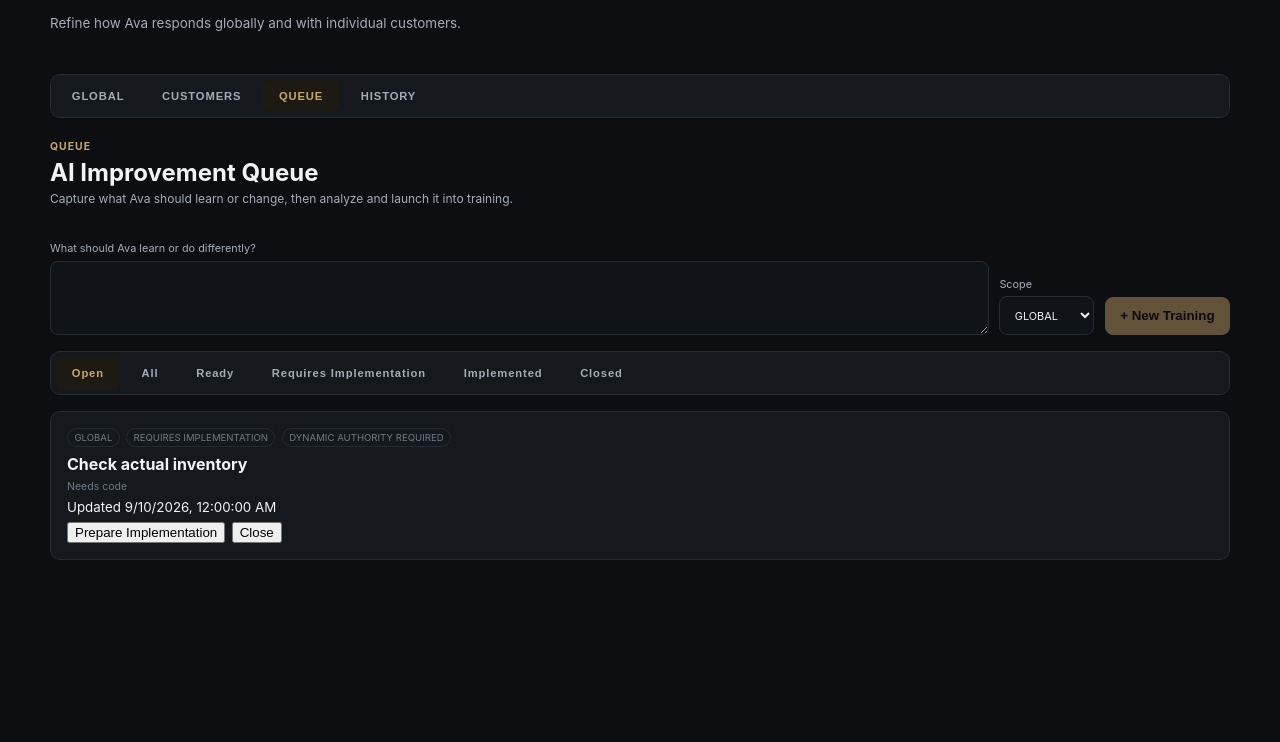
Test: AI Training workspace › requires explicit prepare, approval, and verification for code-backed work
This screenshot has width=1280, height=742.
Click the button "Prepare Implementation": (146, 532) [67,522,225,543]
(page scrolled)
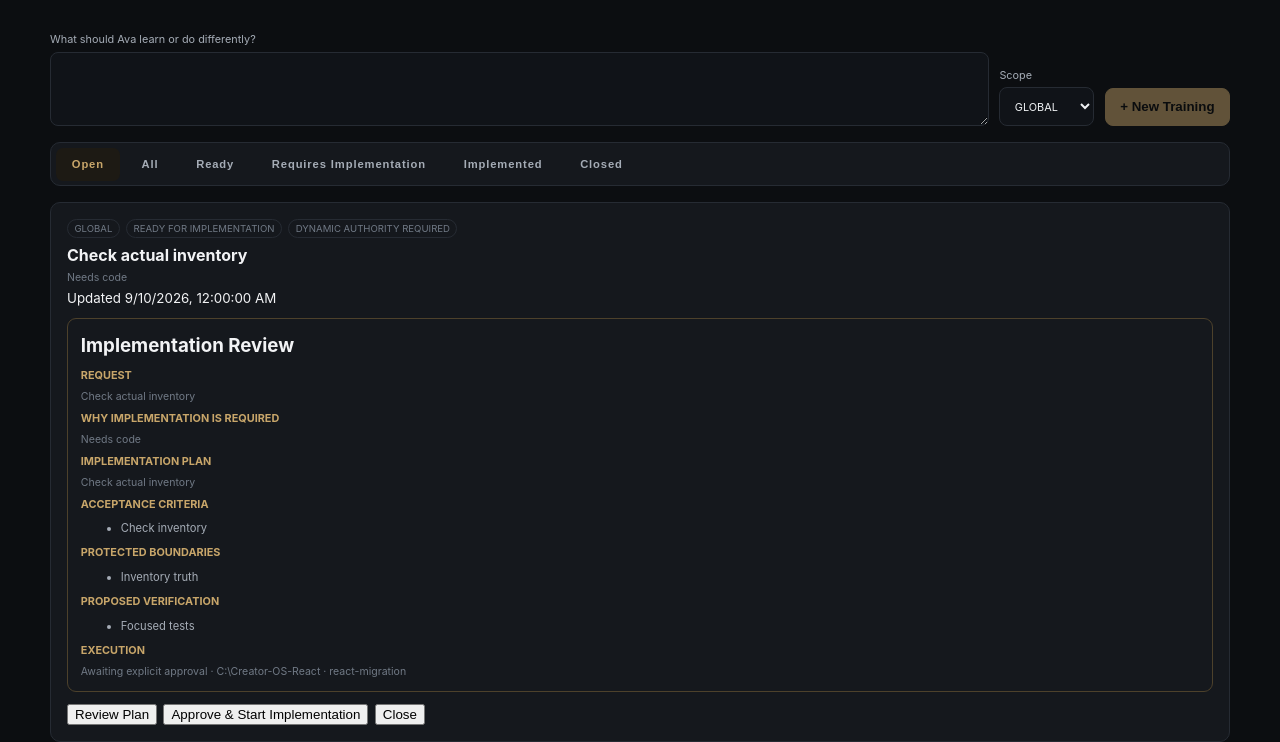
Expected: the button "Approve & Start Implementation" is shown
Click the button "Approve & Start Implementation": (266, 714) [164,704,368,725]
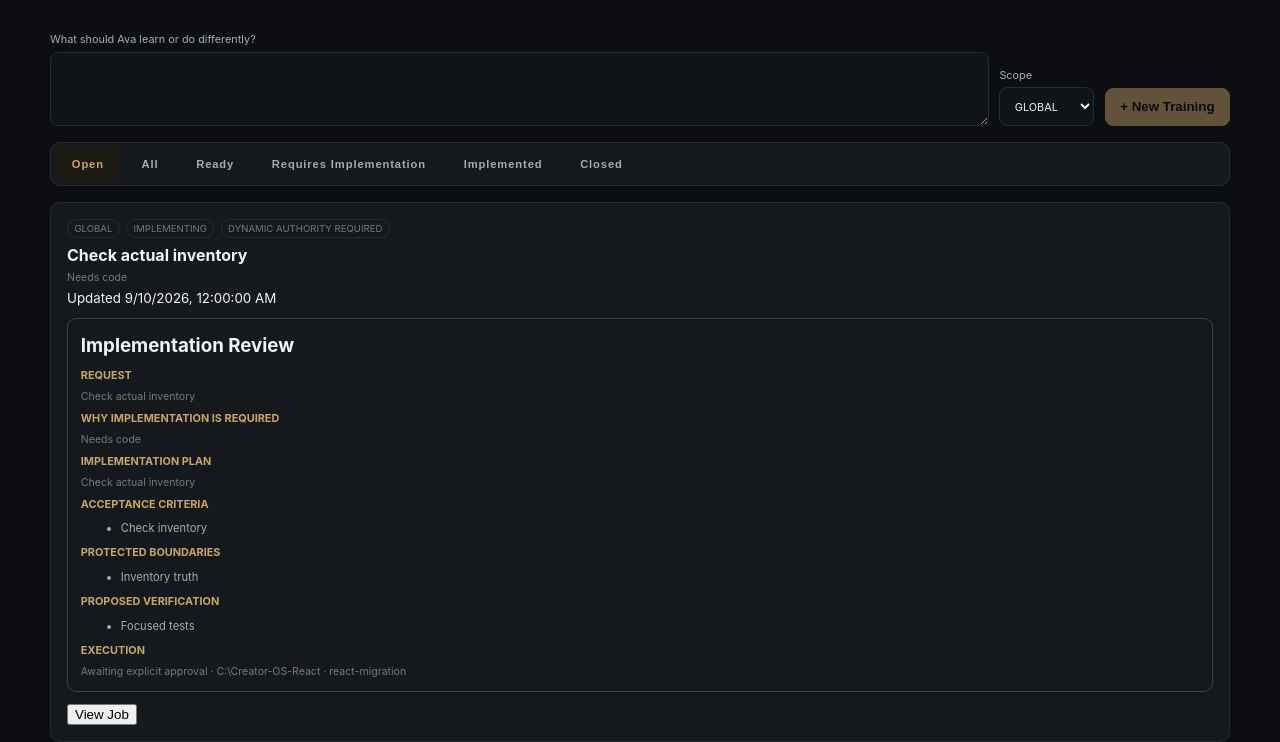
Expected: the button "View Job" is shown, [67,704,137,725]
